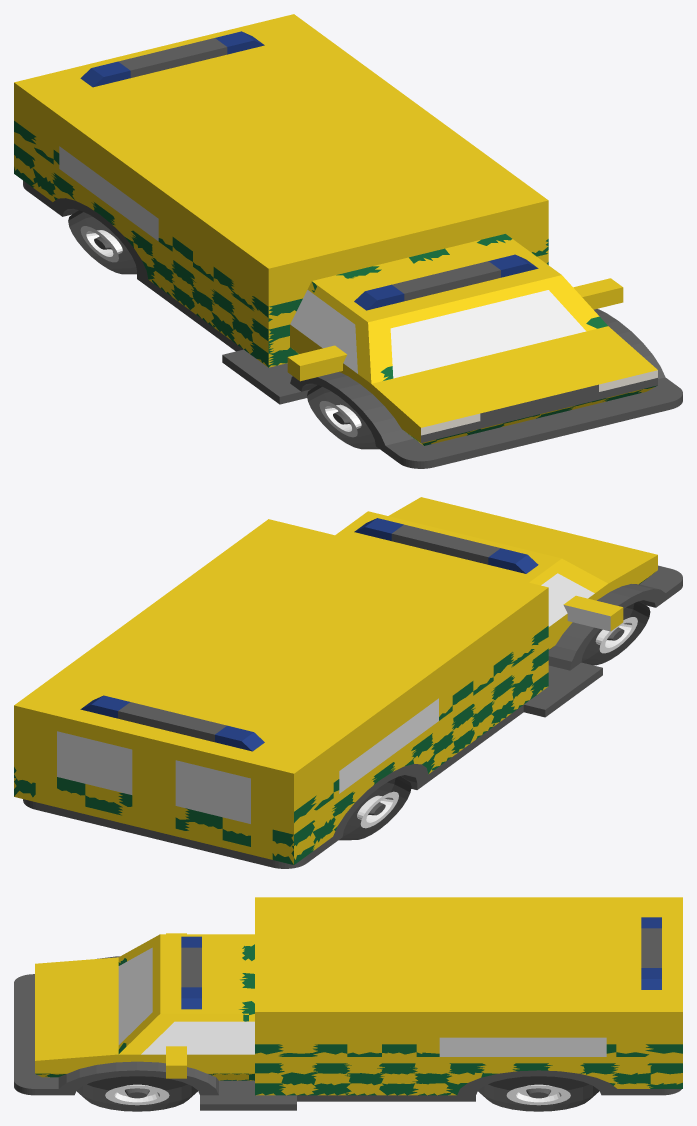
The model's file is ambulance.obj.
The picture shows the model from 3 angles, top to bottom: view 1: azimuth 30°, elevation 25°; view 2: azimuth 150°, elevation 25°; view 3: azimuth 270°, elevation 25°; orthographic projection. The views are drawn at different scales.
Size of the model in its own units: 5.44 by 2.08 by 11.6.
